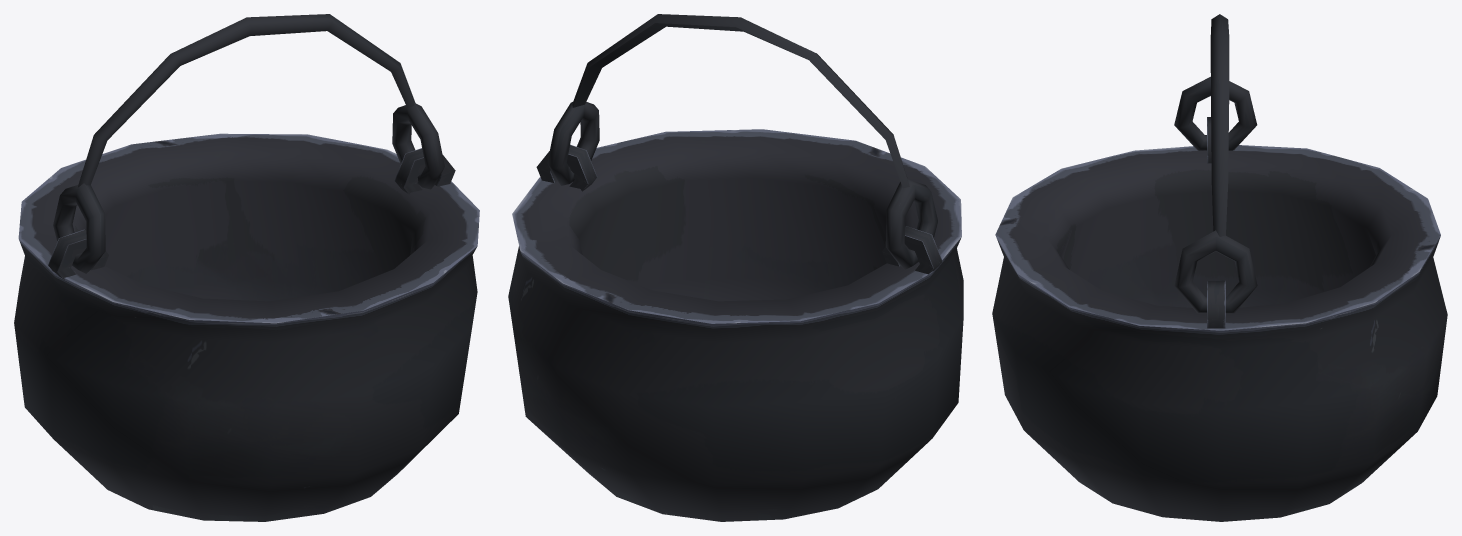
The model's file is SM_PROP_cookingpot_dungeon_02.fbx.
3 views of the same model, side by side, from view 1: azimuth 30°, elevation 25°; view 2: azimuth 150°, elevation 25°; view 3: azimuth 270°, elevation 25° (orthographic). The views are drawn at different scales.
Visible parts, largest first — view 1: SM_PROP_cookingpot_dungeon_02, SM_PROP_cookingpot_handle_dungeon_02; view 2: SM_PROP_cookingpot_dungeon_02, SM_PROP_cookingpot_handle_dungeon_02; view 3: SM_PROP_cookingpot_dungeon_02, SM_PROP_cookingpot_handle_dungeon_02.
Boxes of the visible parts, bbox=[...] form: SM_PROP_cookingpot_dungeon_02: bbox=[14, 133, 479, 521]; SM_PROP_cookingpot_handle_dungeon_02: bbox=[53, 14, 444, 273]; SM_PROP_cookingpot_dungeon_02: bbox=[508, 129, 963, 521]; SM_PROP_cookingpot_handle_dungeon_02: bbox=[547, 14, 937, 269]; SM_PROP_cookingpot_dungeon_02: bbox=[992, 117, 1447, 521]; SM_PROP_cookingpot_handle_dungeon_02: bbox=[1174, 14, 1257, 313].
Bounding box in the file's own units: 60.08 × 66 × 61.02.
